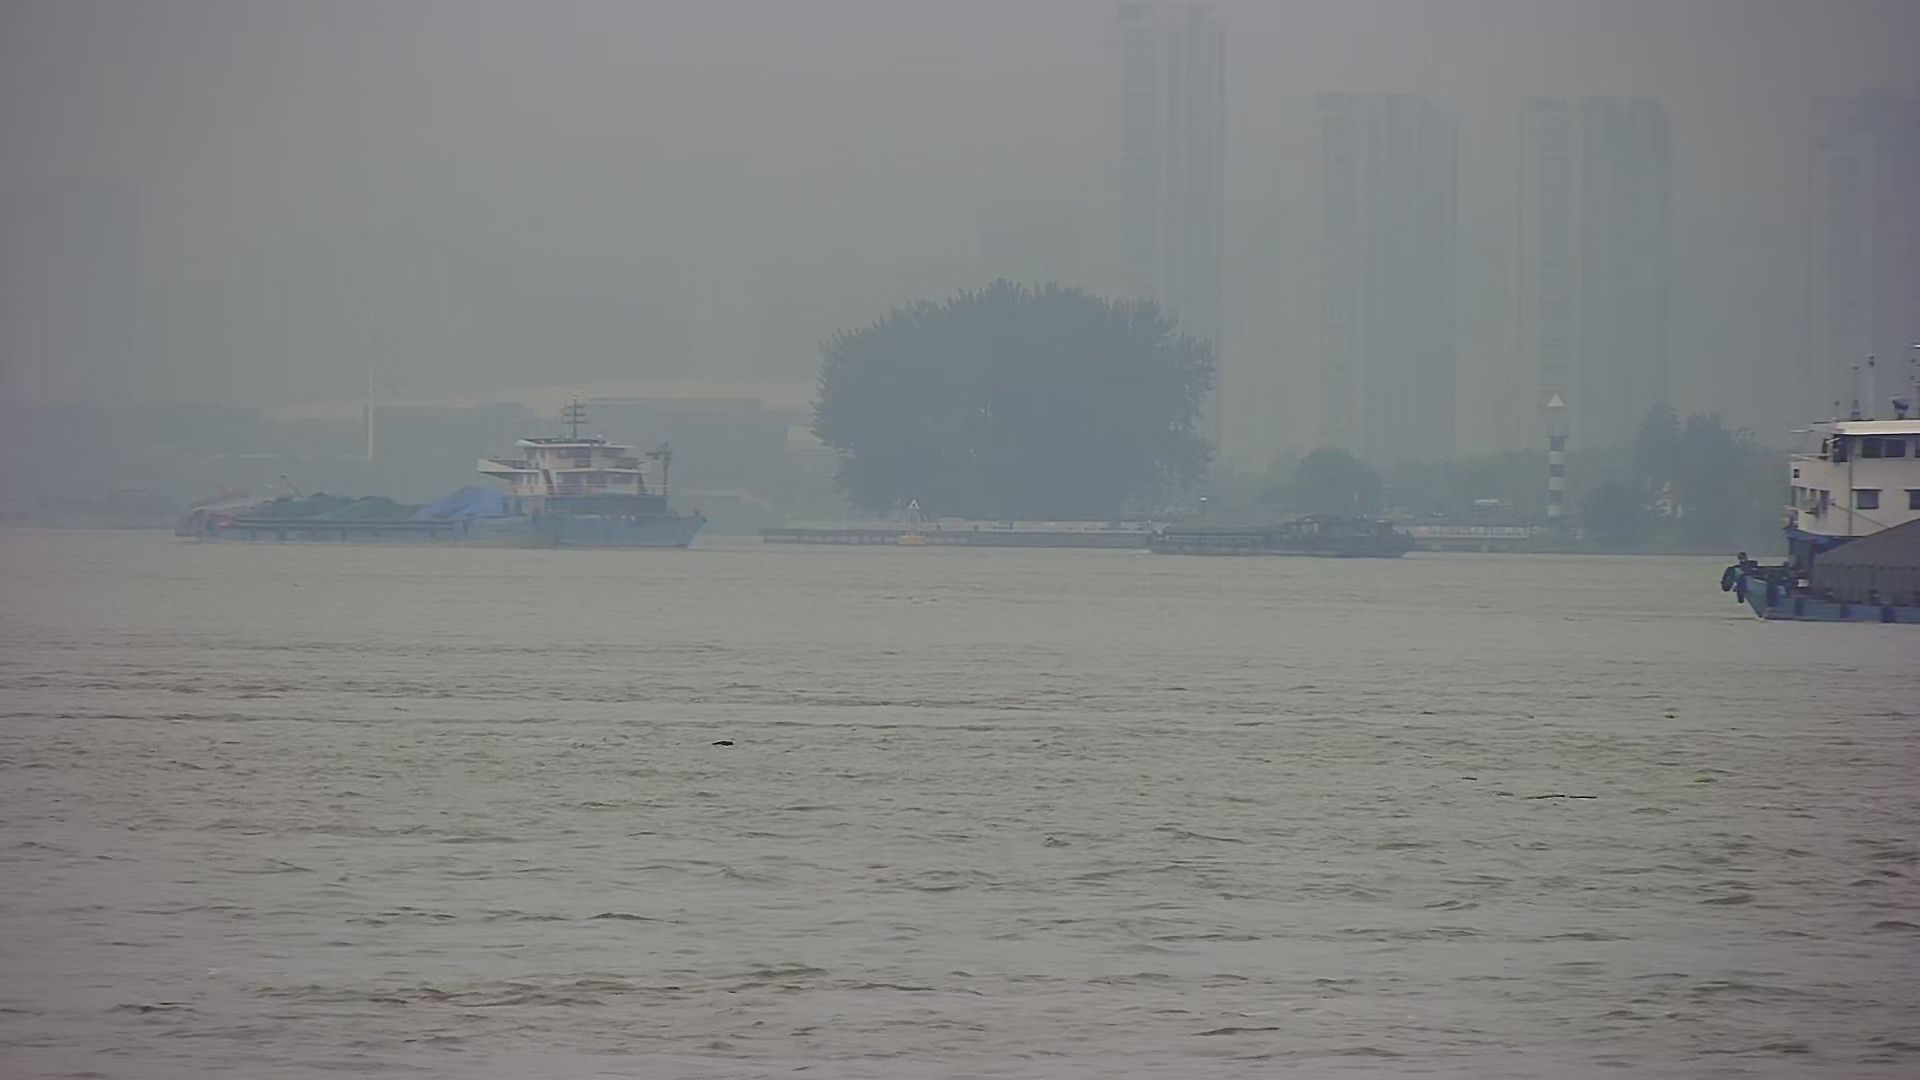ship: (146, 384, 715, 558), (1125, 498, 1433, 570)
